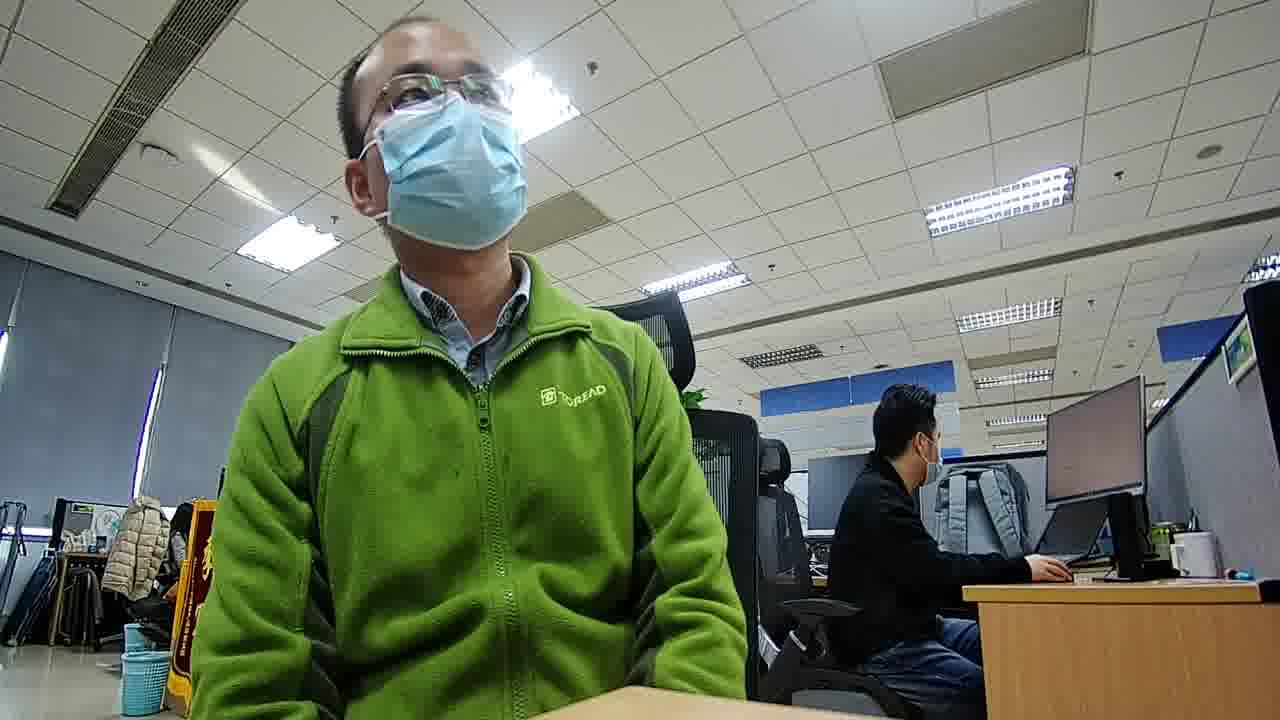face: (367, 37, 528, 249)
mask: (371, 94, 528, 248)
person: (235, 7, 659, 392), (835, 380, 959, 541), (167, 497, 192, 549)
